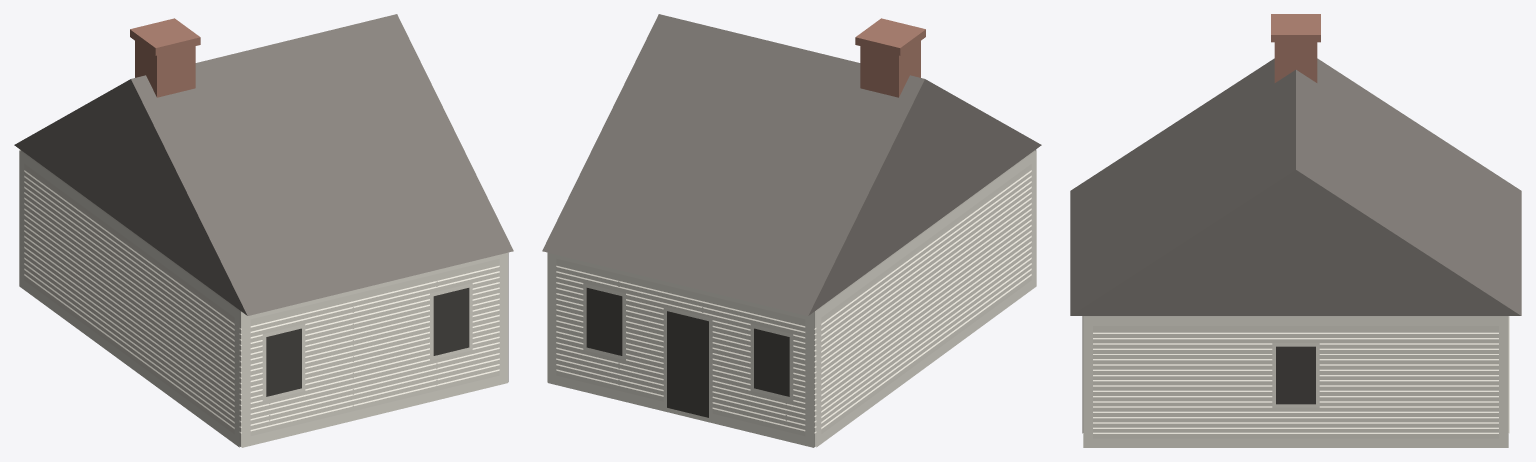
Rendered from recon_1835_south_d4_002__inferred_1835.glb.
3 renders of one model, left to right at view 1: azimuth 30°, elevation 25°; view 2: azimuth 150°, elevation 25°; view 3: azimuth 270°, elevation 25°, orthographic. The views are drawn at different scales.
Visible parts, largest first — view 1: recon_1835_south_d4_002__inferred_1835; view 2: recon_1835_south_d4_002__inferred_1835; view 3: recon_1835_south_d4_002__inferred_1835.
Boxes of the visible parts, x1,y1,x2,y2 form: recon_1835_south_d4_002__inferred_1835: (14,14,513,447); recon_1835_south_d4_002__inferred_1835: (542,14,1041,447); recon_1835_south_d4_002__inferred_1835: (1070,14,1521,447).
Bounding box in the file's own units: 5.9 × 6.79 × 8.85.
